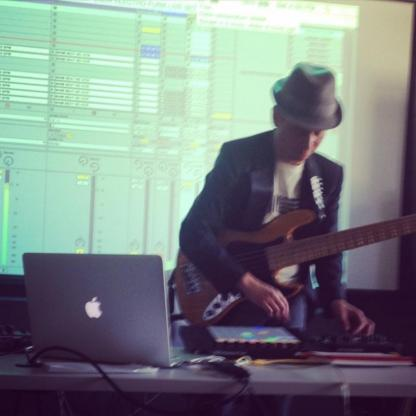board: (15, 254, 181, 378)
